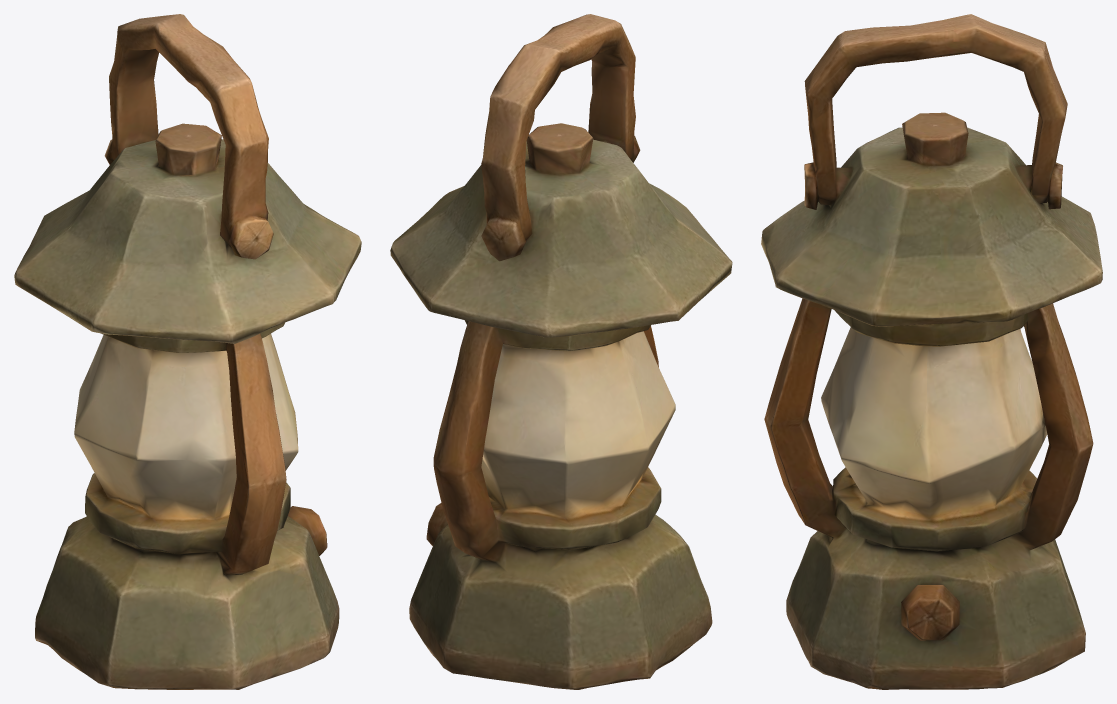
Rendered from 露营灯.glb.
3 renders of one model, left to right at view 1: azimuth 30°, elevation 25°; view 2: azimuth 150°, elevation 25°; view 3: azimuth 270°, elevation 25°, orthographic. The views are drawn at different scales.
Visible parts, largest first — view 1: tripo_node_021add60-4565-41f0-ba51-23dfbe98d42c; view 2: tripo_node_021add60-4565-41f0-ba51-23dfbe98d42c; view 3: tripo_node_021add60-4565-41f0-ba51-23dfbe98d42c.
Part boxes in pixels (x1,y1,x2,y2): tripo_node_021add60-4565-41f0-ba51-23dfbe98d42c: (14,14,361,689); tripo_node_021add60-4565-41f0-ba51-23dfbe98d42c: (390,14,732,689); tripo_node_021add60-4565-41f0-ba51-23dfbe98d42c: (761,14,1102,689).
Size of the model in its own units: 0.5045 by 1 by 0.5048.
Materials: 1 (1 with a texture image).
